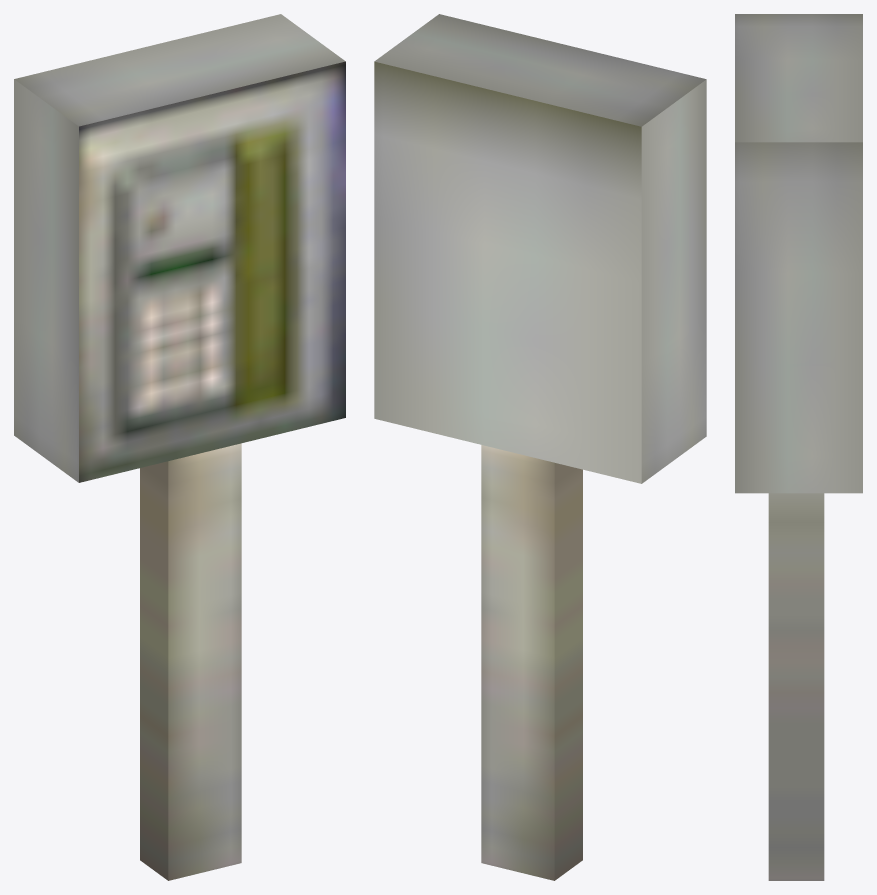
The model's file is EntryPanel.glb.
The picture shows the model from 3 angles, left to right: view 1: azimuth 30°, elevation 25°; view 2: azimuth 150°, elevation 25°; view 3: azimuth 270°, elevation 25°; orthographic projection.
Visible parts, largest first — view 1: EntryPanel; view 2: EntryPanel; view 3: EntryPanel.
Boxes of the visible parts, x1,y1,x2,y2 form: EntryPanel: (14, 14, 345, 880); EntryPanel: (374, 14, 706, 880); EntryPanel: (735, 14, 862, 880).
Size of the model in its own units: 58.41 by 166 by 24.57.
Materials: 1 (1 with a texture image).
